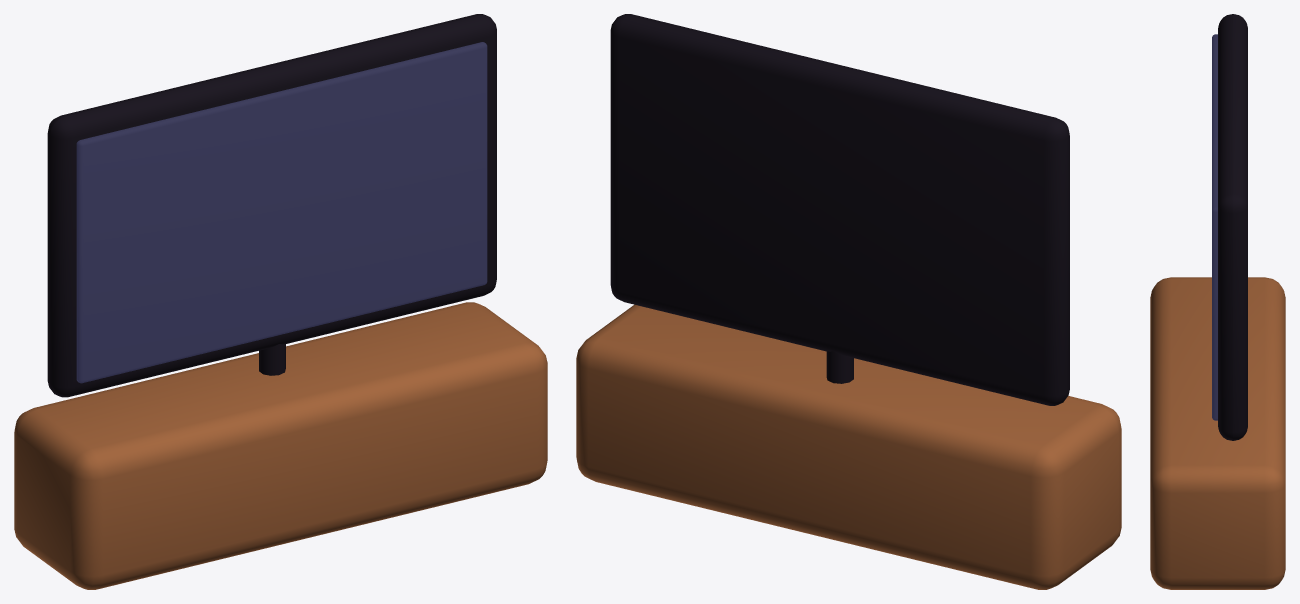
The picture shows the model from 3 angles, left to right: view 1: azimuth 30°, elevation 25°; view 2: azimuth 150°, elevation 25°; view 3: azimuth 270°, elevation 25°; orthographic projection. The views are drawn at different scales.
Visible parts, largest first — view 1: TV, Screen; view 2: TV; view 3: TV, Screen.
Boxes of the visible parts, x1,y1,x2,y2 form: TV: [14, 14, 547, 589]; Screen: [76, 42, 487, 383]; TV: [576, 14, 1121, 589]; TV: [1150, 14, 1285, 589]; Screen: [1212, 34, 1217, 420].
Size of the model in its own units: 1.6 by 1.43 by 0.45.
